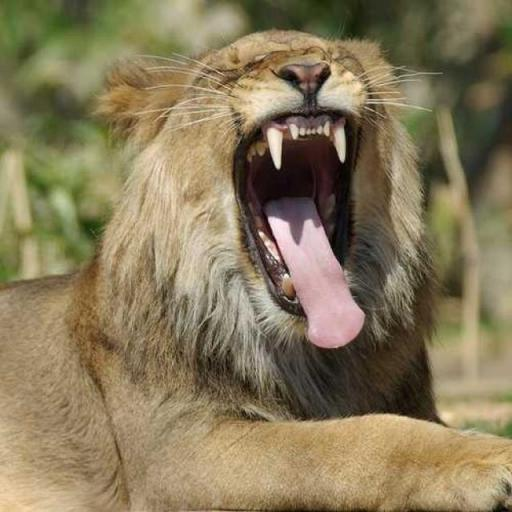Lion: (0, 24, 511, 511)
